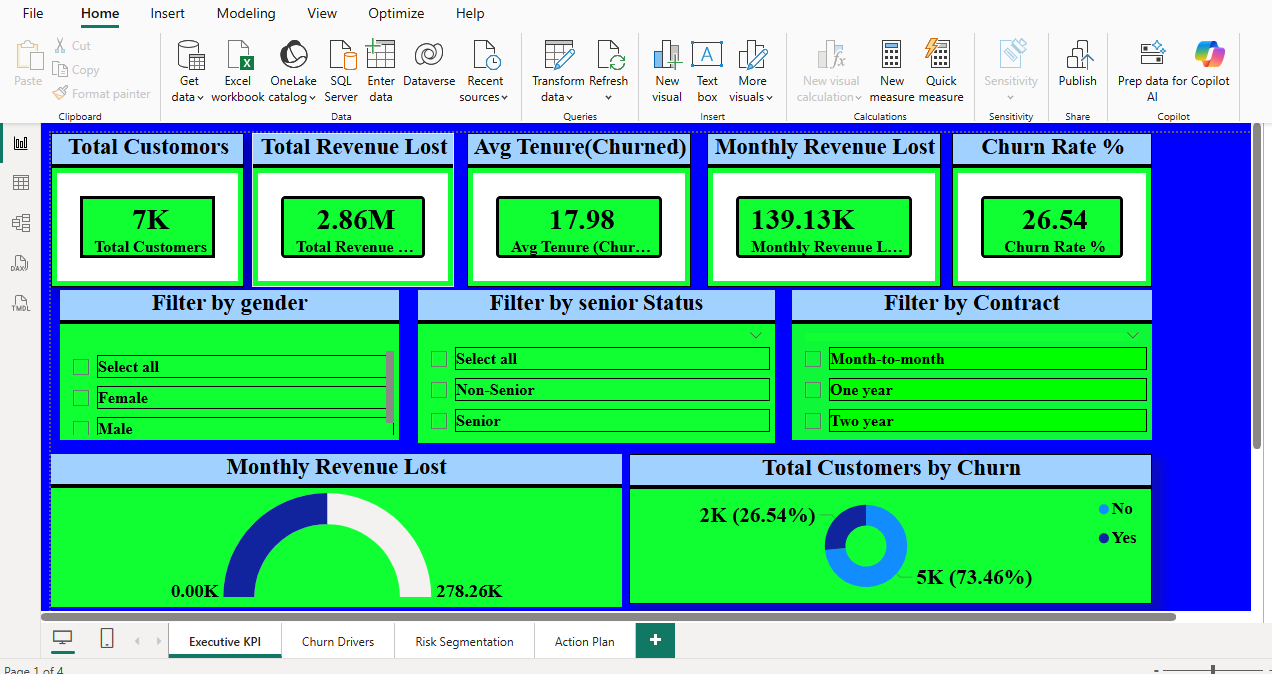

The dashboard page shown, as its layout file describes it:
{"tool":"powerbi","page":{"name":"Executive KPI","canvas":[1280,720],"ordinal":0},"visuals":[{"type":"cardVisual","title":"Total Customors","fields":{"Data":["WA_Fn-UseC_-Telco-Customer-Churn.Total Customers"]},"box":[0,0,193,192],"z":0},{"type":"cardVisual","title":"Churn Rate %","fields":{"Data":["WA_Fn-UseC_-Telco-Customer-Churn.Churn Rate %"]},"box":[901,0,200,192],"z":1000},{"type":"cardVisual","title":"Total Revenue Lost","fields":{"Data":["WA_Fn-UseC_-Telco-Customer-Churn.Total Revenue Lost"]},"box":[201,0,202,192],"z":2000},{"type":"cardVisual","title":"Monthly Revenue Lost","fields":{"Data":["WA_Fn-UseC_-Telco-Customer-Churn.Monthly Revenue Lost"]},"box":[656,0,234,192],"z":3000},{"type":"cardVisual","title":"Avg Tenure(Churned)","fields":{"Data":["WA_Fn-UseC_-Telco-Customer-Churn.Avg Tenure (Churned)"]},"box":[416,0,224,192],"z":4000},{"type":"slicer","title":"Filter by gender","fields":{"Values":["WA_Fn-UseC_-Telco-Customer-Churn.gender"]},"box":[0,210,339,175],"z":5000},{"type":"slicer","title":"Filter by senior Status","fields":{"Values":["WA_Fn-UseC_-Telco-Customer-Churn.Senior Status"]},"box":[363,210,357,175],"z":6000},{"type":"slicer","title":"Filter by Contract","fields":{"Values":["WA_Fn-UseC_-Telco-Customer-Churn.Contract"]},"box":[741,210,360,175],"z":7000},{"type":"donutChart","fields":{"Category":["WA_Fn-UseC_-Telco-Customer-Churn.Churn"],"Y":["WA_Fn-UseC_-Telco-Customer-Churn.Total Customers"]},"box":[578,409,523,204],"z":8000},{"type":"gauge","fields":{"Y":["WA_Fn-UseC_-Telco-Customer-Churn.Monthly Revenue Lost"]},"box":[0,409,571,204],"z":9000}]}

Visuals, with their boxes on the page's 1280x720 design canvas (x1, y1, x2, y2). These are canvas units, not pixel positions in the 1272x674 screenshot, which may show the page scaled, cropped or inside an application window:
"Total Customors" cardVisual: (left=0, top=0, right=193, bottom=192)
"Churn Rate %" cardVisual: (left=901, top=0, right=1101, bottom=192)
"Total Revenue Lost" cardVisual: (left=201, top=0, right=403, bottom=192)
"Monthly Revenue Lost" cardVisual: (left=656, top=0, right=890, bottom=192)
"Avg Tenure(Churned)" cardVisual: (left=416, top=0, right=640, bottom=192)
"Filter by gender" slicer: (left=0, top=210, right=339, bottom=385)
"Filter by senior Status" slicer: (left=363, top=210, right=720, bottom=385)
"Filter by Contract" slicer: (left=741, top=210, right=1101, bottom=385)
donutChart - WA_Fn-UseC_-Telco-Customer-Churn.Churn x WA_Fn-UseC_-Telco-Customer-Churn.Total Customers: (left=578, top=409, right=1101, bottom=613)
gauge - WA_Fn-UseC_-Telco-Customer-Churn.Monthly Revenue Lost: (left=0, top=409, right=571, bottom=613)
